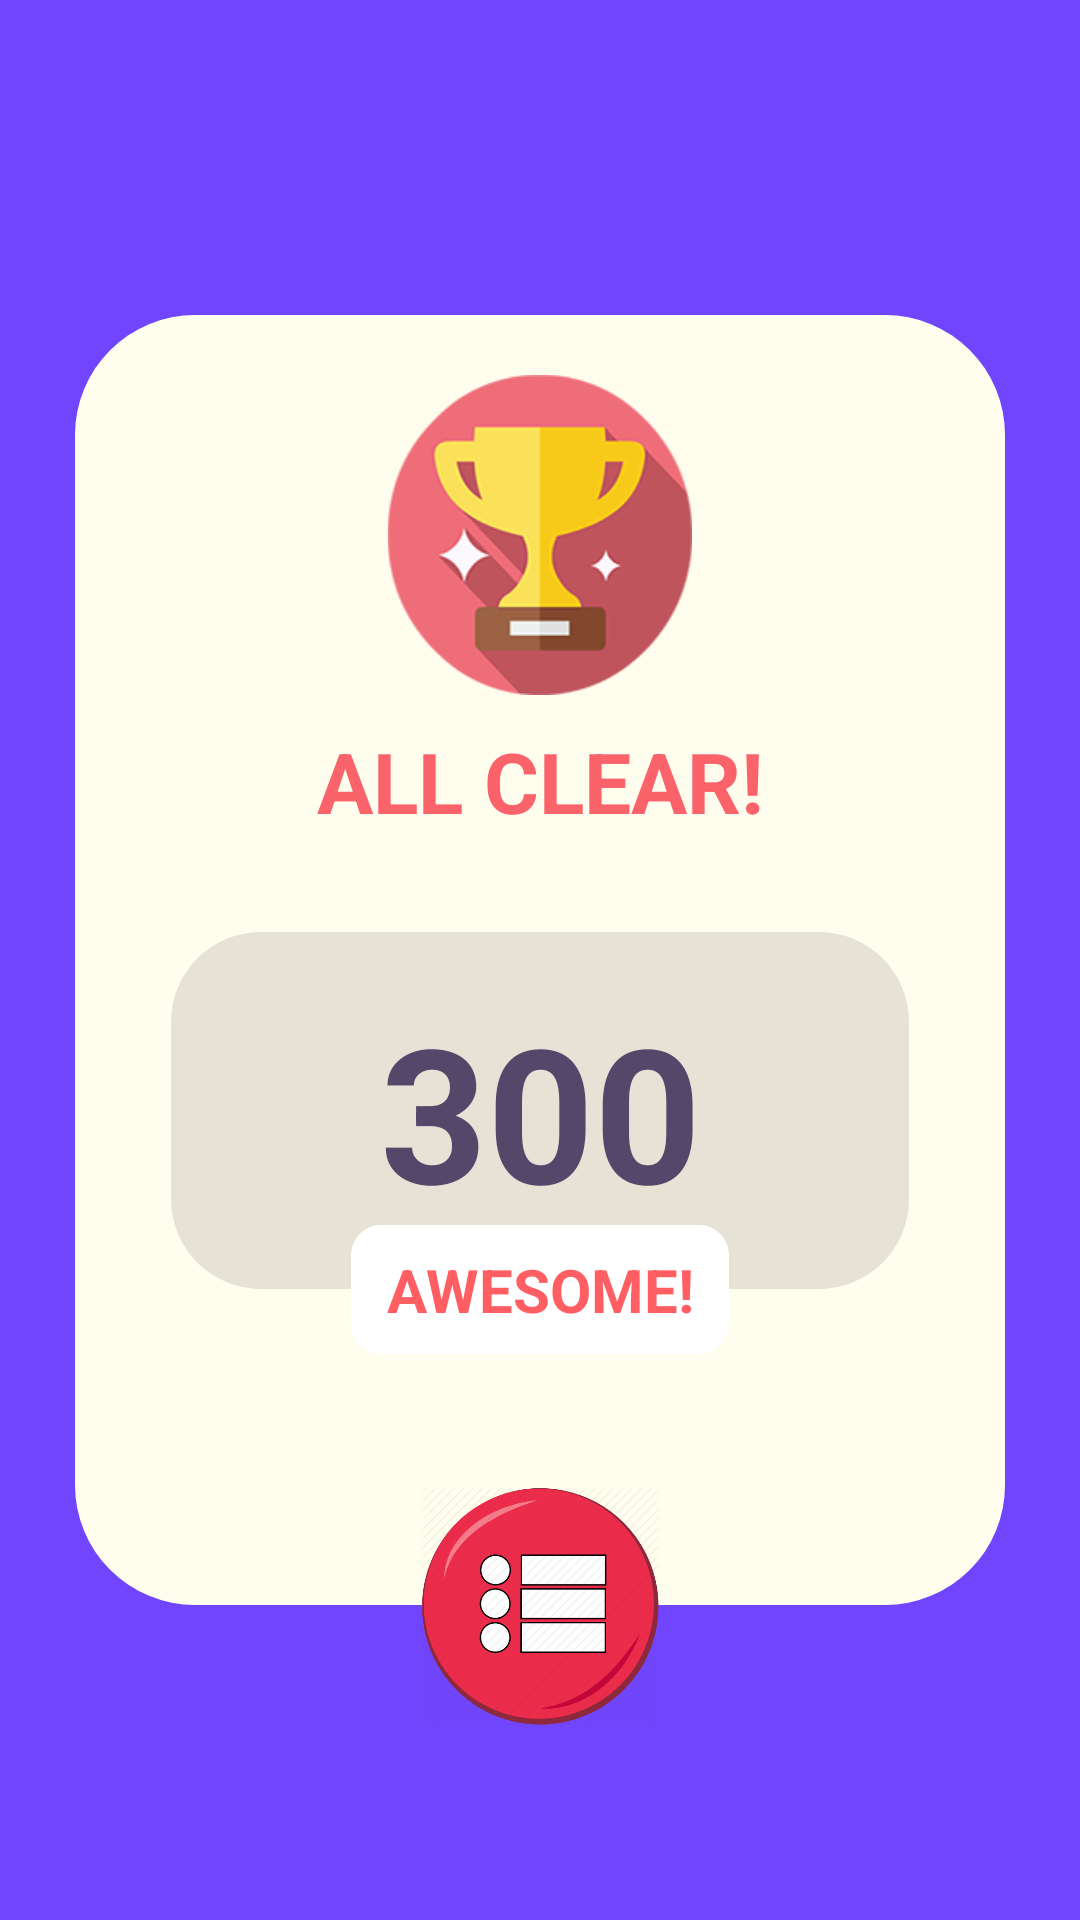

Icon click points for this 1080*1920 phone screenshot, format (x=x, y=y):
menu: (x=540, y=1605)
